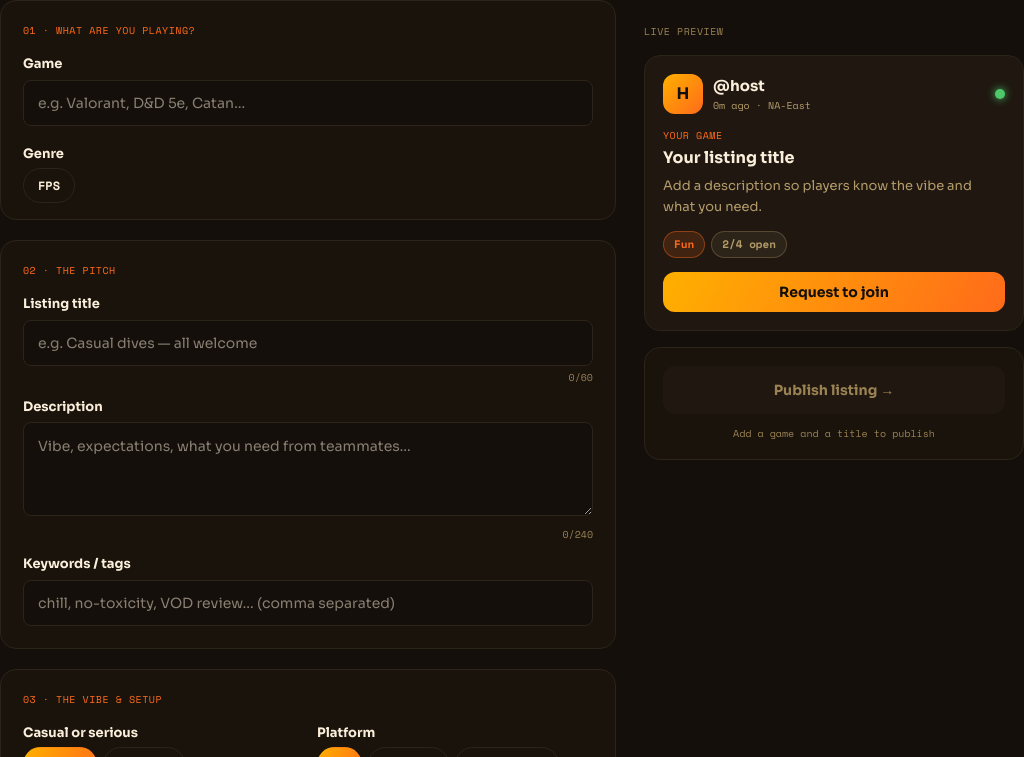
Test case: game typeahead (036/FR-001) › sets the field to the canonical name when a suggestion is picked
Type "valor" into the dropdown labelled "Game" at (308, 102), box [23,80,593,126]
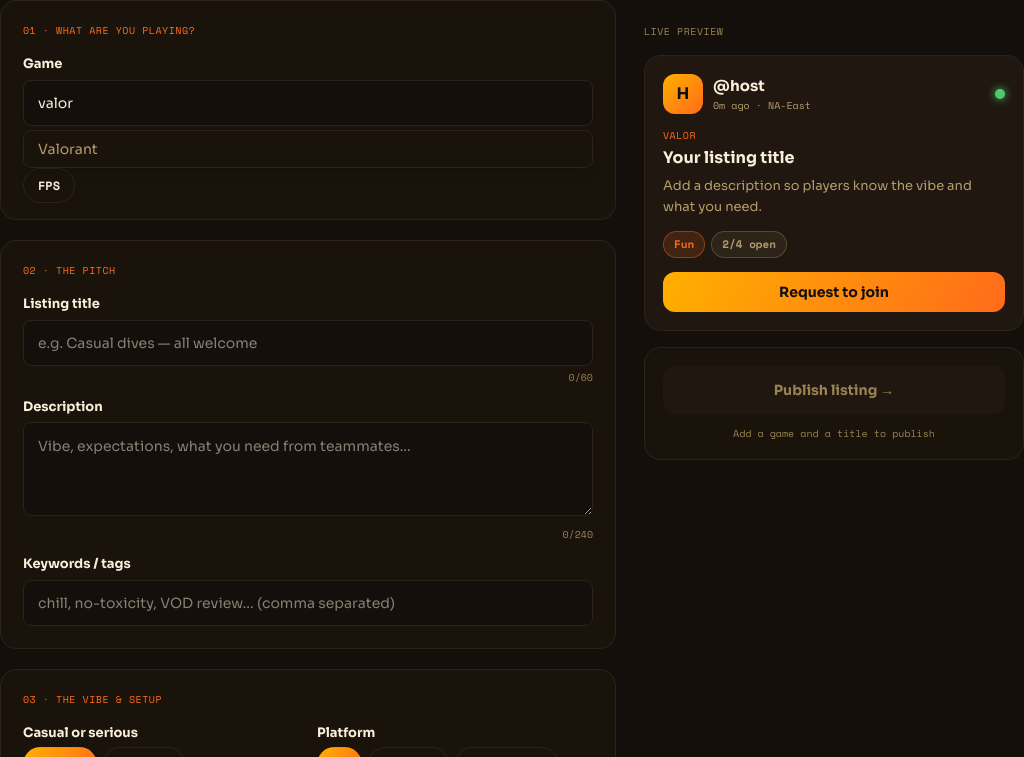
Press the mouse on the button "Valorant" at (68, 148), box [24,130,592,166]
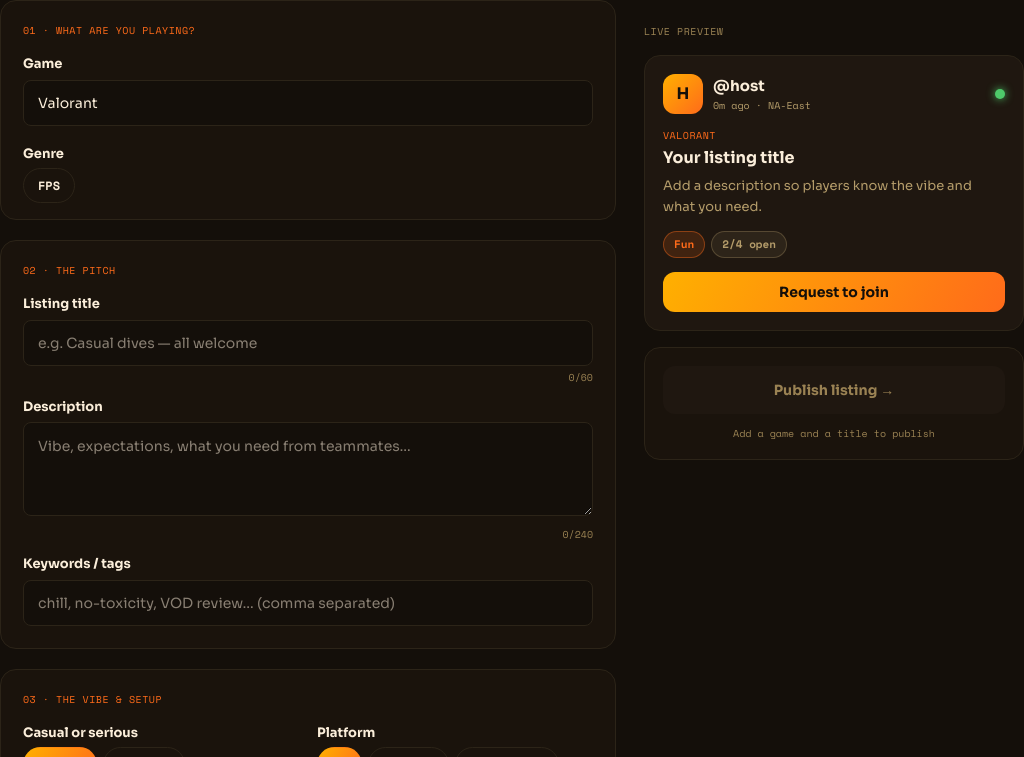
Expected: the dropdown labelled "Game" holds "Valorant", [23,80,593,126]
